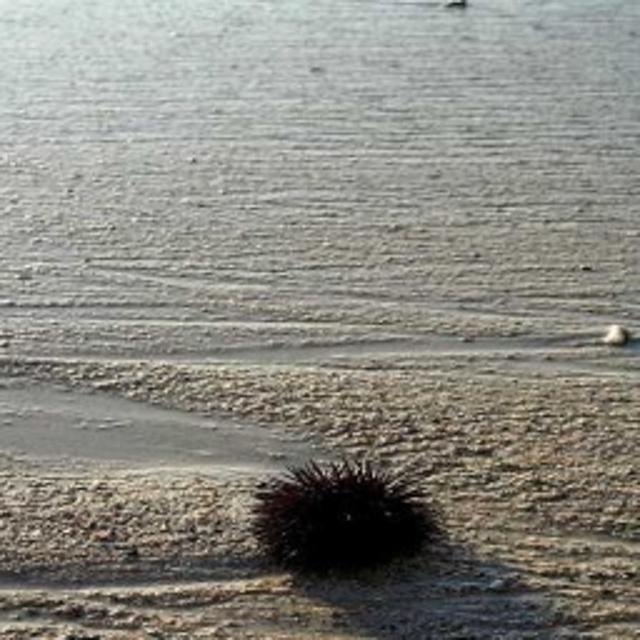Urchin: (241, 452, 455, 577)
